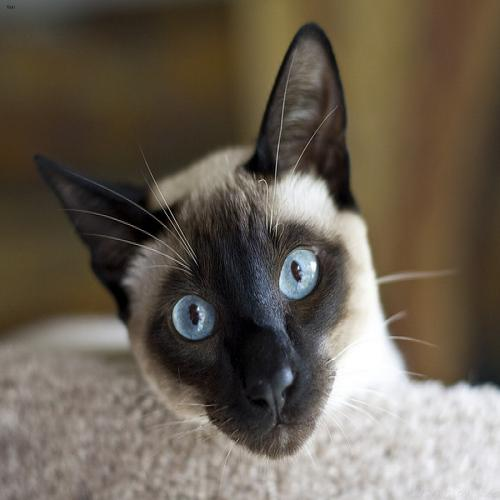siamese: (34, 15, 370, 477)
